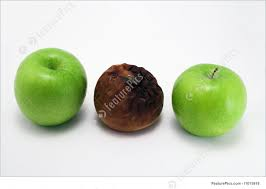apple: (173, 68, 251, 139), (17, 51, 88, 125)
damaged_apple: (92, 63, 169, 134)
